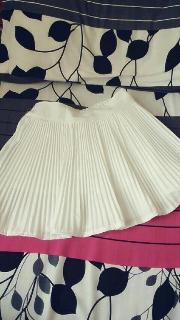skirt: (0, 88, 180, 240)
